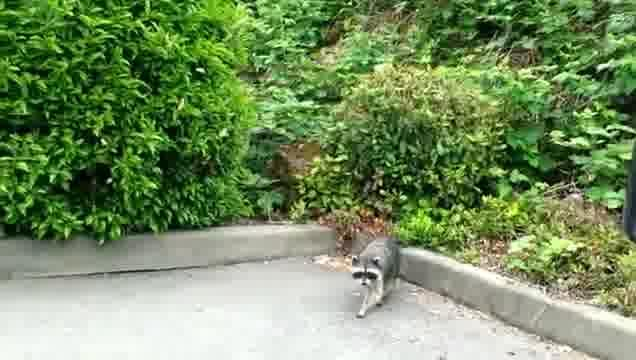raccoon: (351, 238, 400, 320)
